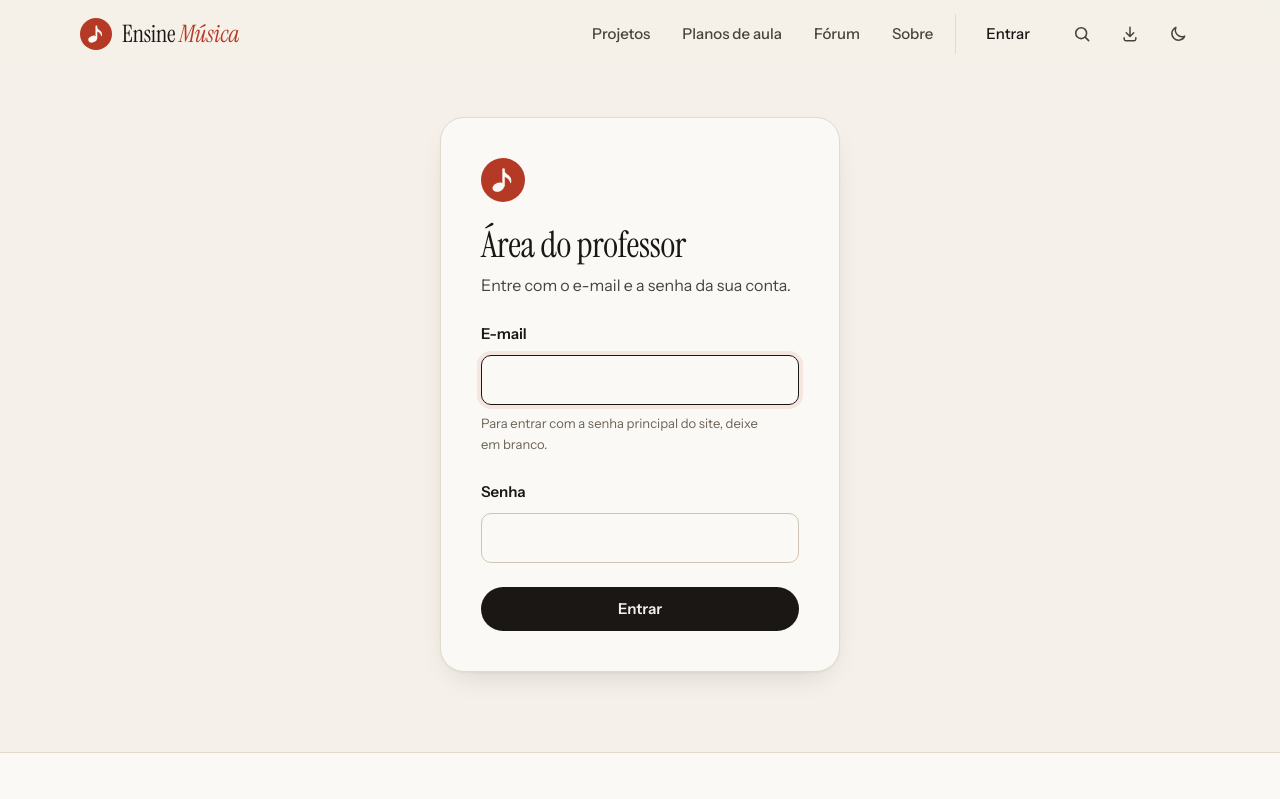
Scenario: login › muitas tentativas mostram o aviso de bloqueio
The image size is (1280, 799).
Type "errada" into the password field labelled "Senha" at (640, 538), box [481,513,799,563]
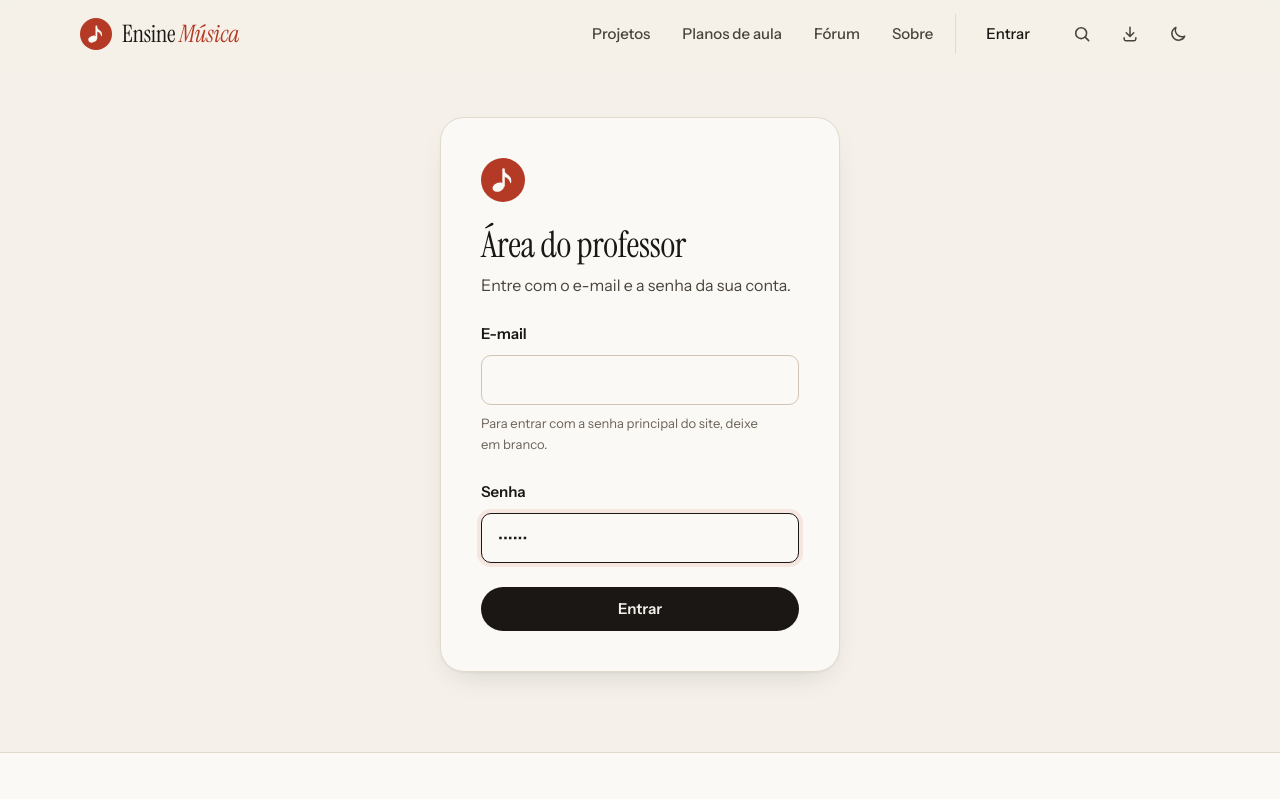
Click the button "Entrar" at (640, 609), box [481,587,799,631]
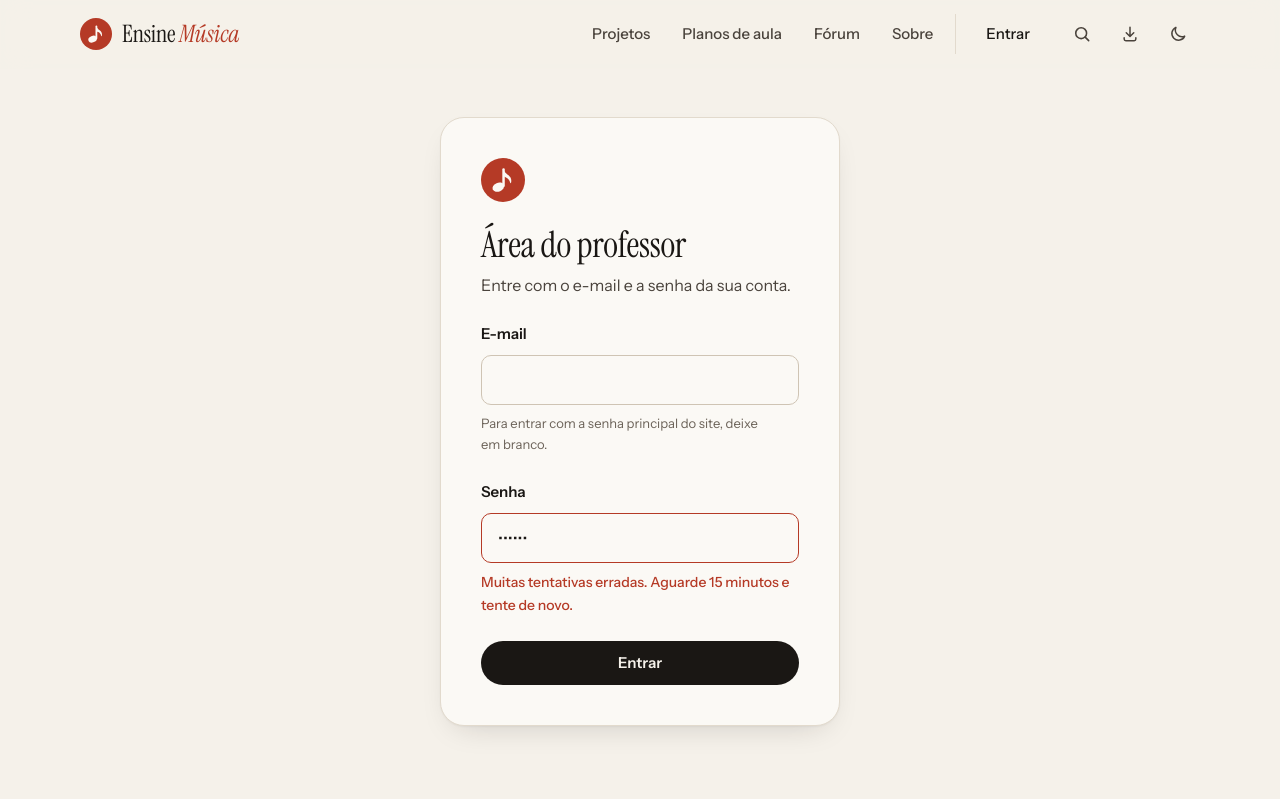
Expected: the message shows "Muitas tentativas", [481,573,790,614]
